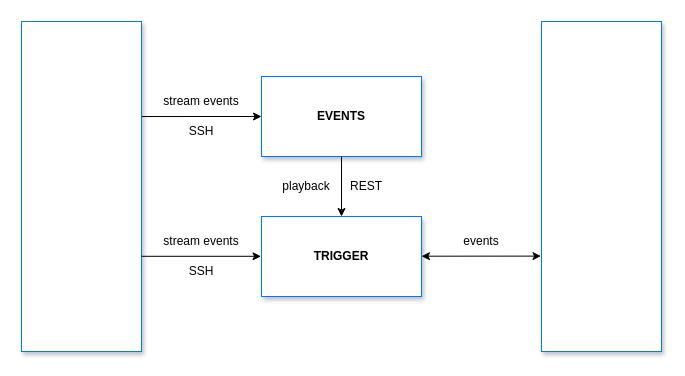
This 685x376 diagram has some shape labels left out. Here are the shapes that lost their labels. From the top down, the centre of each, then its label:
At [82,187]: "REVIEW".
At [602,187]: "PIPEFLOW".
